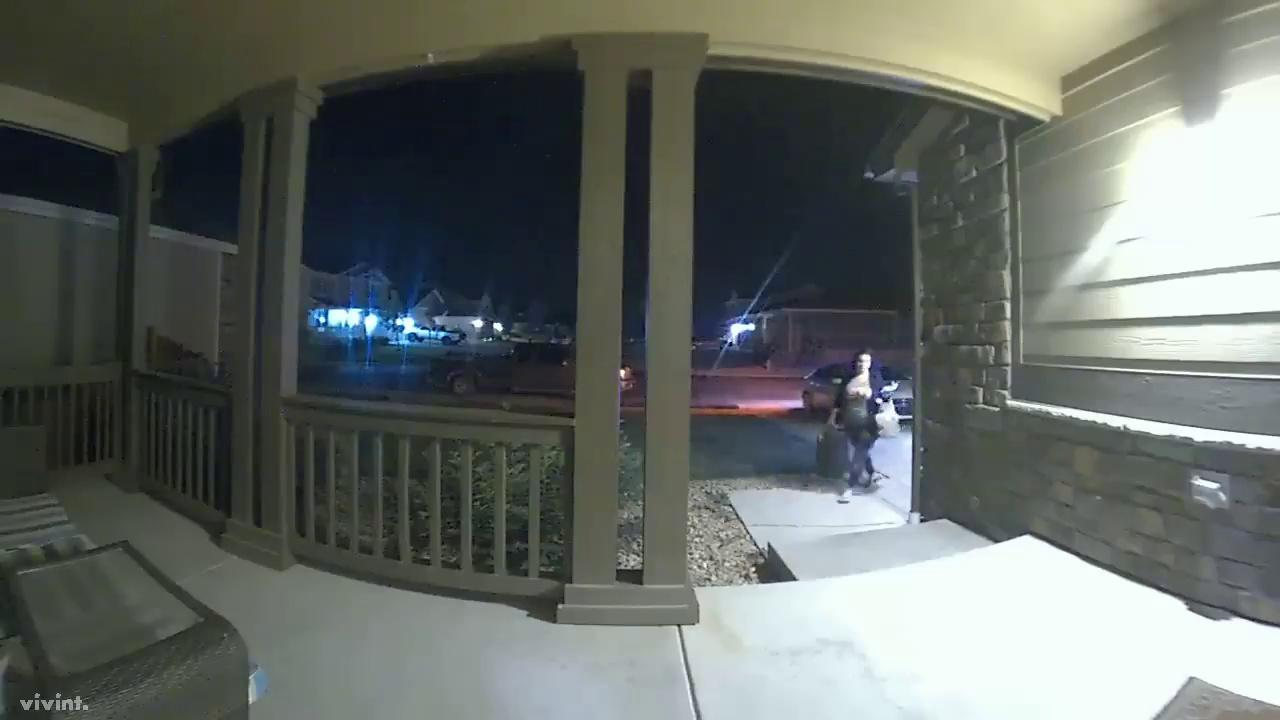suspicion: (804, 334, 898, 508)
